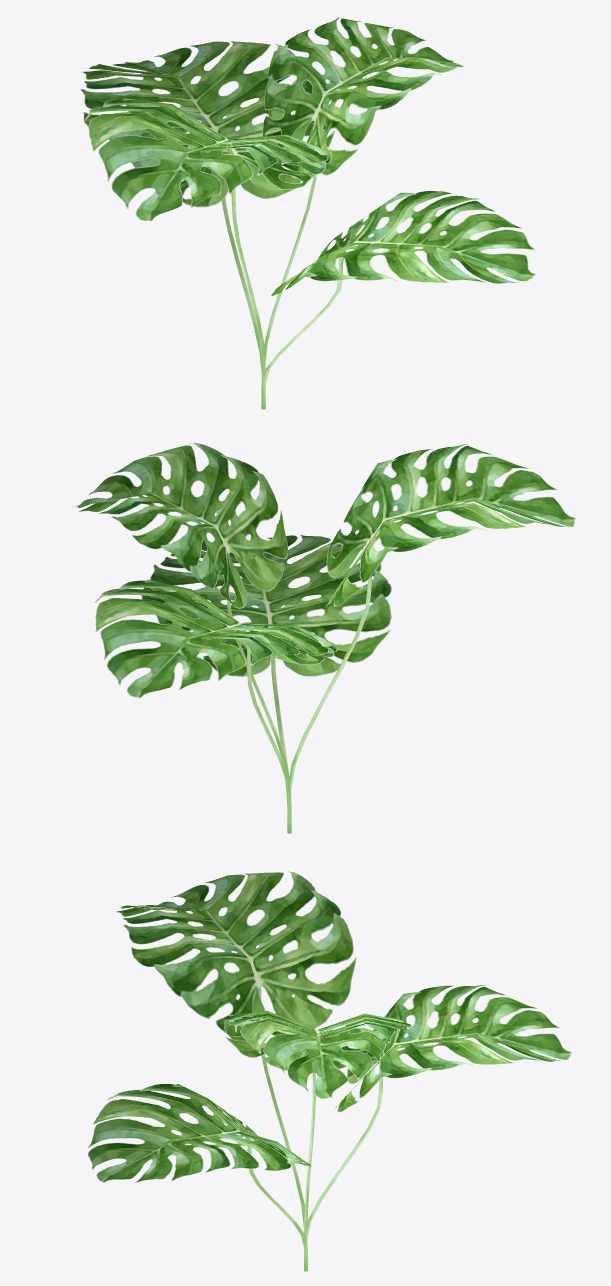
The model's file is Bushtest.fbx.
3 renders of one model, top to bottom at view 1: azimuth 30°, elevation 25°; view 2: azimuth 150°, elevation 25°; view 3: azimuth 270°, elevation 25°, orthographic. The views are drawn at different scales.
Parts seen in each view (by area): view 1: polySurface14; view 2: polySurface14; view 3: polySurface14.
Boxes of the visible parts, box(x1,y1,x2,y2) form: polySurface14: box(80, 17, 535, 409); polySurface14: box(72, 442, 575, 833); polySurface14: box(88, 871, 571, 1271).
Bounding box in the file's own units: 442 × 279 × 459.
1 material, 1 textured.
